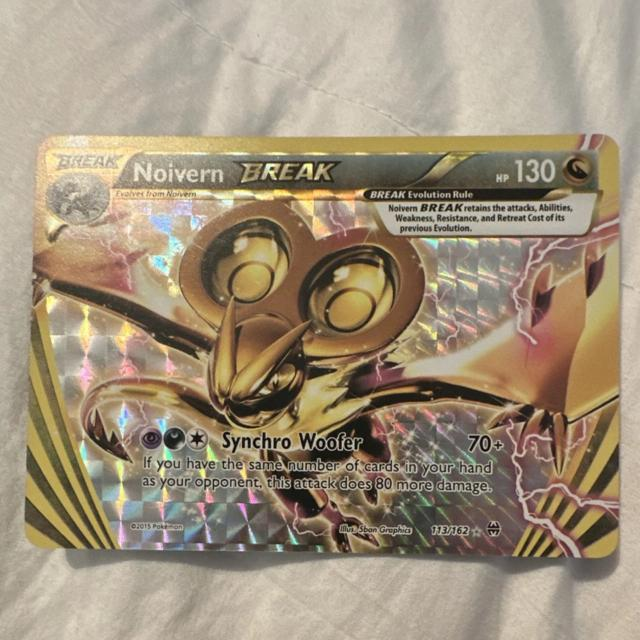Card: (19, 130, 623, 564)
Name: (123, 154, 351, 187)
